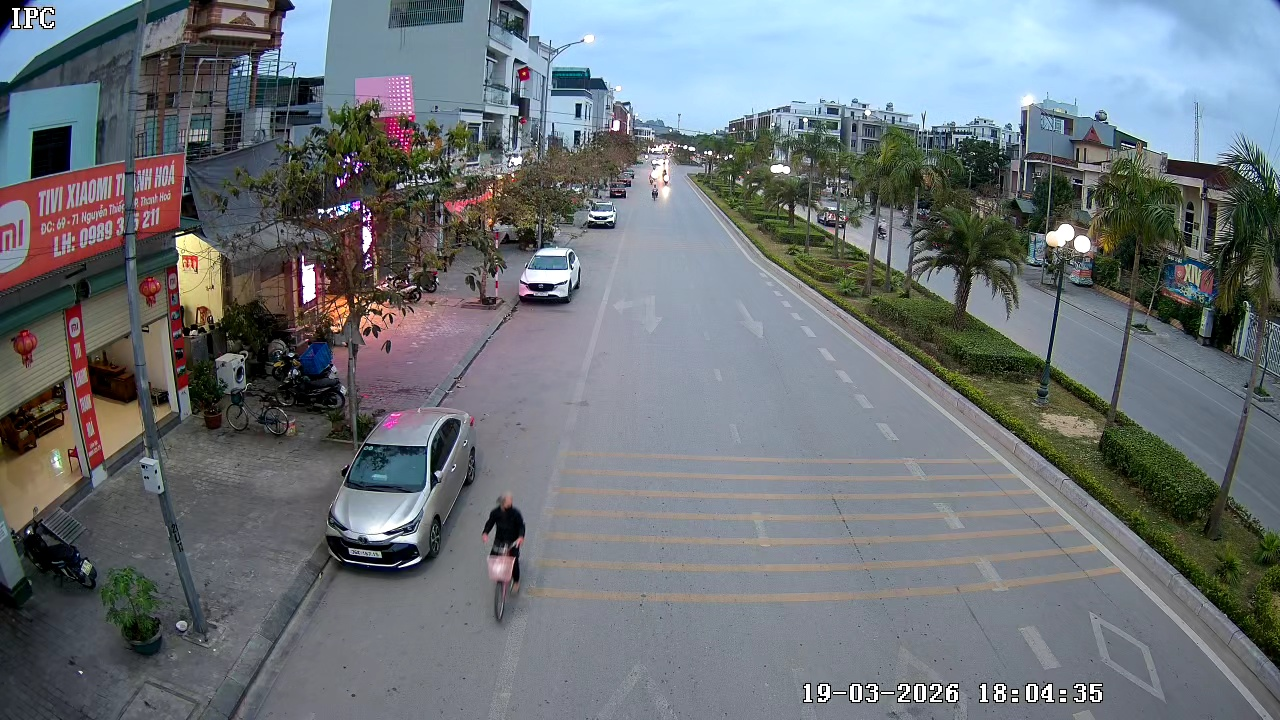bike: (479, 490, 531, 624)
bus: (548, 58, 607, 97)
car: (325, 406, 478, 572), (518, 246, 582, 304), (583, 197, 620, 230)
motorbike: (646, 177, 662, 204)
